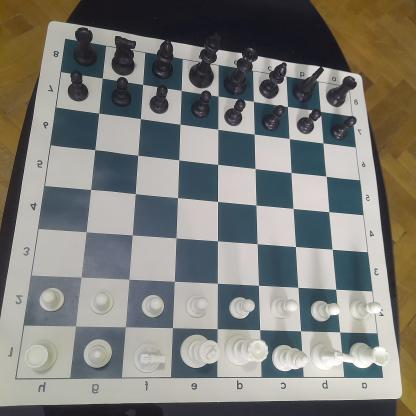black-bishop: (258, 61, 289, 100), (151, 38, 176, 80)
black-king: (188, 32, 223, 90)
black-knight: (290, 66, 326, 103), (110, 34, 139, 77)
black-pawn: (66, 68, 90, 102), (329, 115, 357, 142), (295, 108, 322, 136), (261, 102, 286, 132), (148, 84, 171, 116), (223, 98, 248, 127), (109, 77, 133, 107), (189, 89, 213, 118)
black-queen: (223, 46, 259, 96)
black-rook: (324, 76, 358, 108), (71, 27, 98, 67)
white-bishop: (270, 343, 310, 374), (81, 336, 114, 370)
white-king: (177, 332, 222, 372)
white-knight: (309, 335, 356, 373), (129, 340, 168, 376)
white-pawn: (347, 294, 385, 324), (224, 295, 258, 322), (268, 293, 299, 322), (309, 298, 343, 324), (87, 288, 116, 318), (37, 286, 66, 316), (183, 292, 212, 320), (138, 294, 166, 320)
white-queen: (224, 334, 271, 369)
white-rook: (346, 339, 390, 372), (22, 339, 61, 375)
